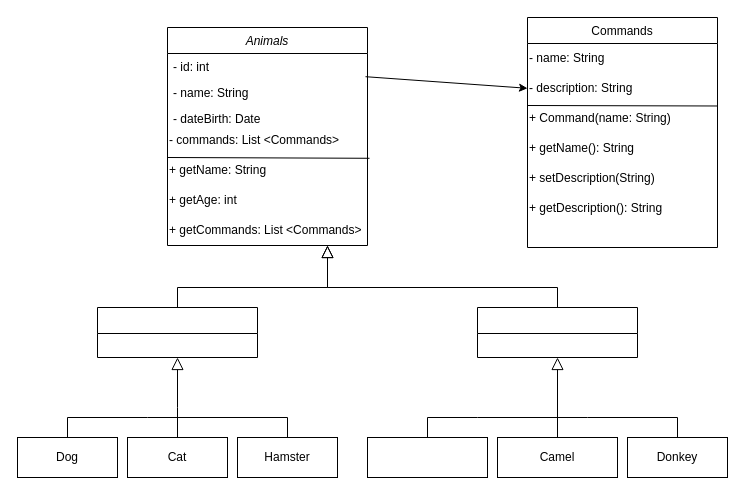
Some shapes in this 745 by 495 pixel diagram are drawn without their labels. The shapes that lost their labels are listed below. From the top down, each one's centre as x and y in pixels, then its label:
point (177, 332): HomeAnimal
point (557, 332): PackAnimal
point (427, 457): Horse
